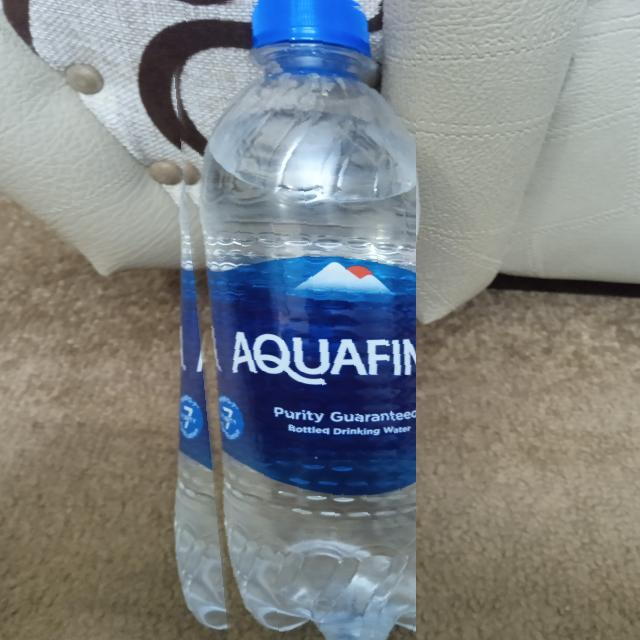Plastic: (167, 0, 416, 640)
